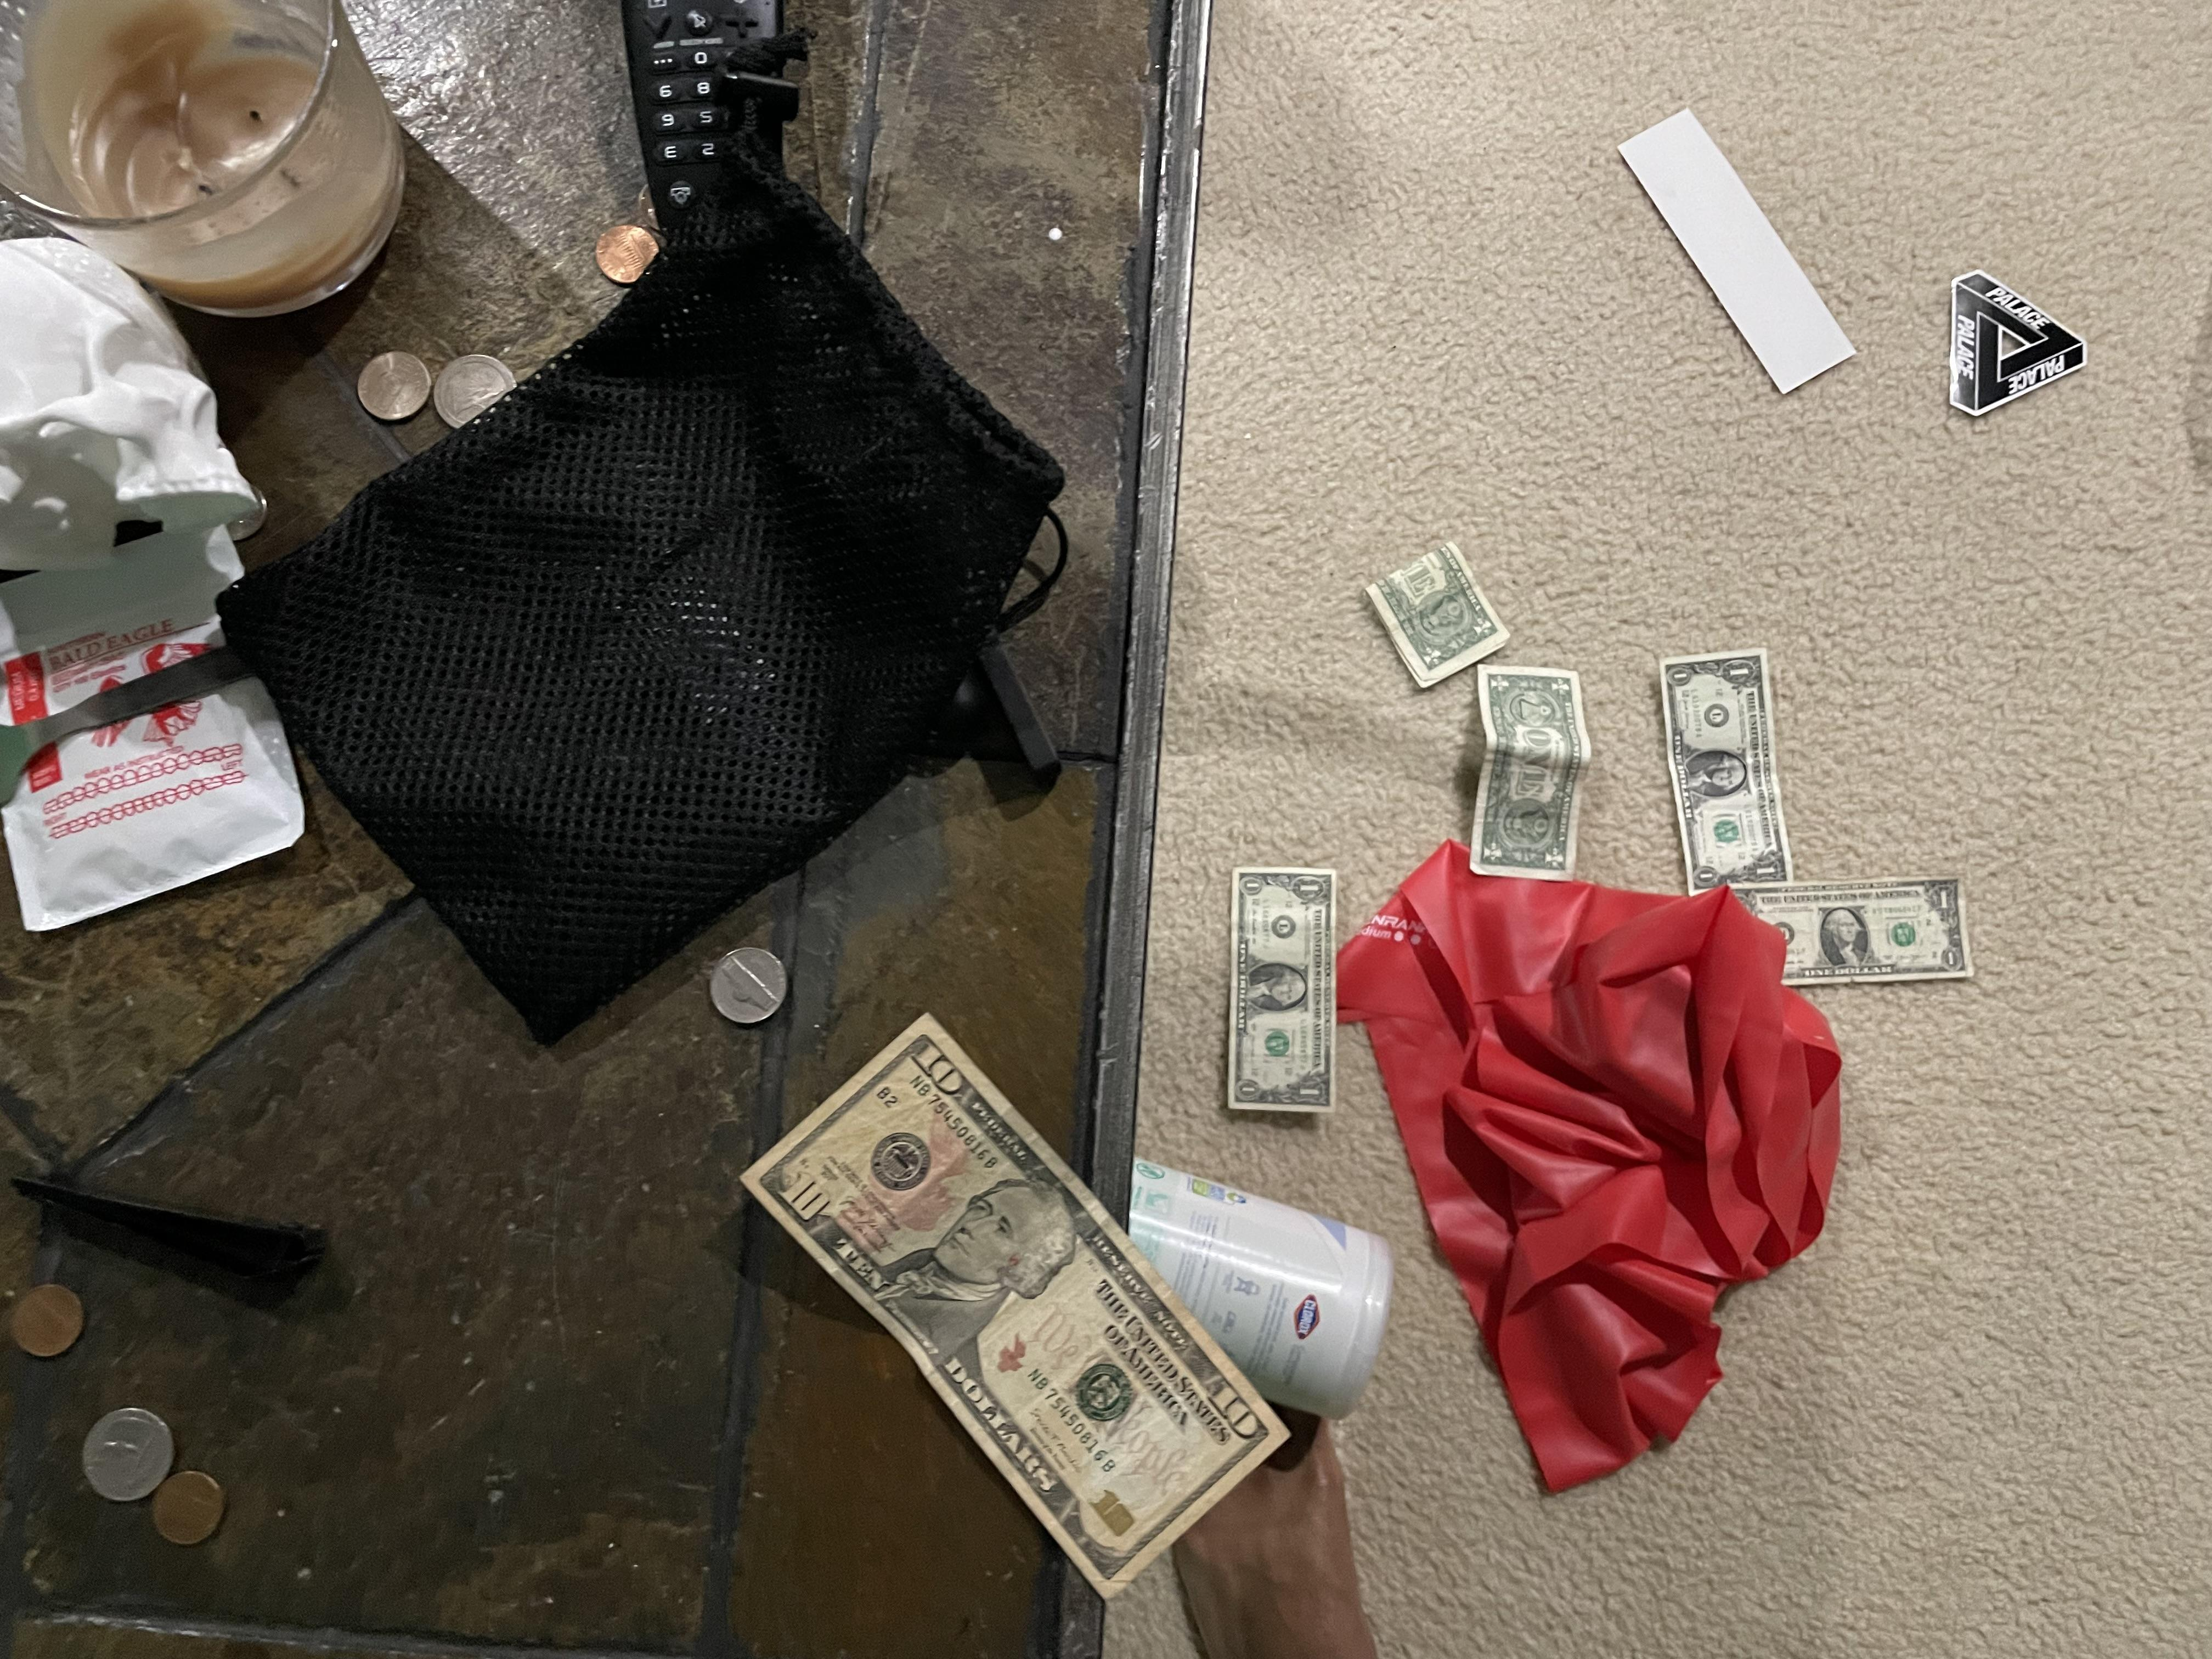Nickel: (691, 941, 794, 1026), (352, 347, 428, 429)
OneBill: (1658, 633, 1799, 908), (1216, 856, 1353, 1134), (1467, 640, 1594, 892), (1723, 870, 1982, 990), (1359, 544, 1510, 688), (7, 1270, 98, 1373), (138, 1466, 235, 1535)
Penny: (583, 221, 664, 303)
Quarter: (421, 343, 521, 446), (75, 1403, 178, 1500)
TenBill: (737, 1007, 1294, 1551)
